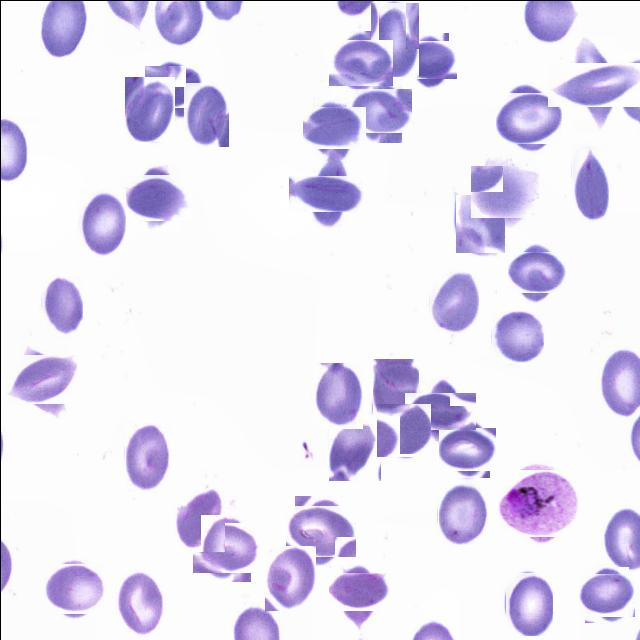difficult: (499, 465, 574, 540)
red blood cell: (559, 49, 629, 119), (369, 1, 418, 76), (290, 500, 350, 561), (11, 348, 71, 408), (474, 162, 534, 222), (127, 167, 186, 227), (498, 88, 558, 146), (299, 164, 358, 222), (264, 546, 315, 612), (196, 518, 254, 576), (77, 187, 125, 256), (428, 268, 478, 333), (124, 76, 174, 141), (313, 362, 362, 428), (175, 486, 224, 551), (124, 421, 170, 490), (437, 481, 487, 544), (332, 34, 388, 90), (116, 568, 162, 636), (328, 420, 380, 480), (372, 358, 418, 425), (504, 571, 552, 635), (570, 141, 608, 221), (351, 82, 406, 137), (412, 383, 467, 438), (46, 560, 100, 616), (182, 81, 228, 146), (376, 402, 430, 457), (306, 100, 359, 154), (455, 194, 504, 252), (334, 566, 386, 618), (490, 310, 542, 362), (148, 61, 200, 112), (40, 274, 82, 335), (510, 246, 560, 296), (581, 570, 631, 620), (442, 424, 492, 474), (406, 36, 452, 82)
